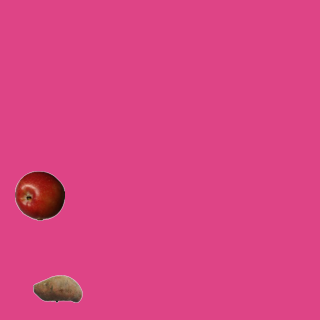Apple Braeburn: (14, 170, 64, 220)
Potato Sweet: (32, 263, 82, 313)
